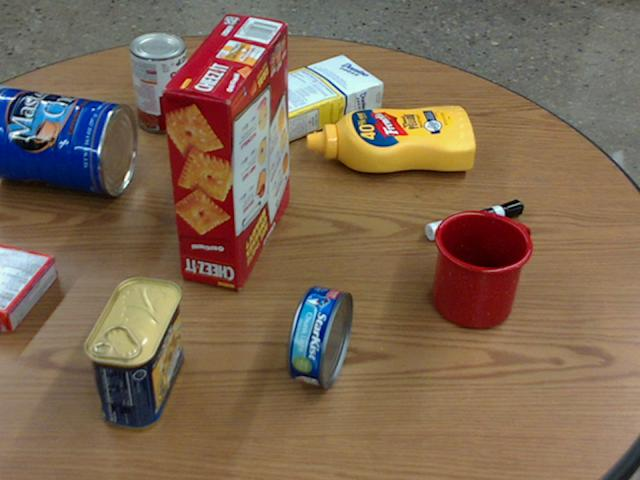cracker_box: (161, 15, 287, 290)
gelatin_box: (0, 244, 58, 332)
large_marker: (425, 200, 523, 240)
master_chef_can: (0, 85, 134, 195)
mug: (432, 209, 533, 328)
mustard_bottle: (306, 107, 475, 170)
potted_meat_can: (85, 277, 181, 431)
sugar_box: (230, 53, 384, 148)
tomato_soup_can: (128, 32, 189, 132)
tuna_fish_can: (286, 285, 354, 388)
